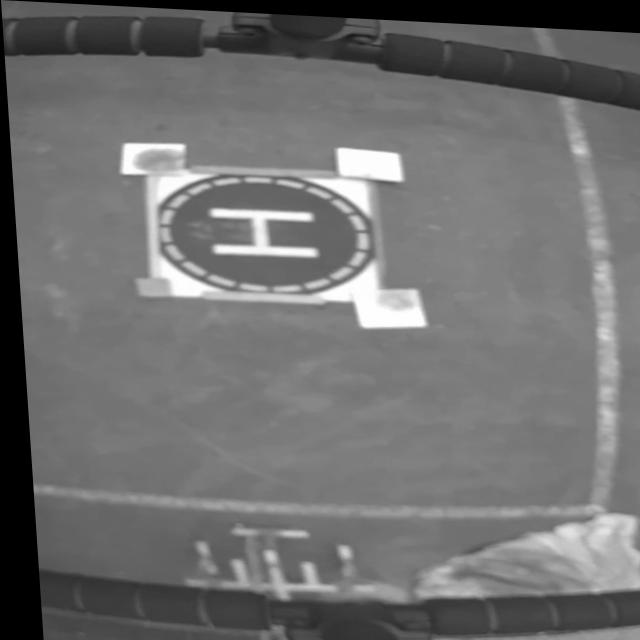Helipad: (204, 206, 314, 255)
